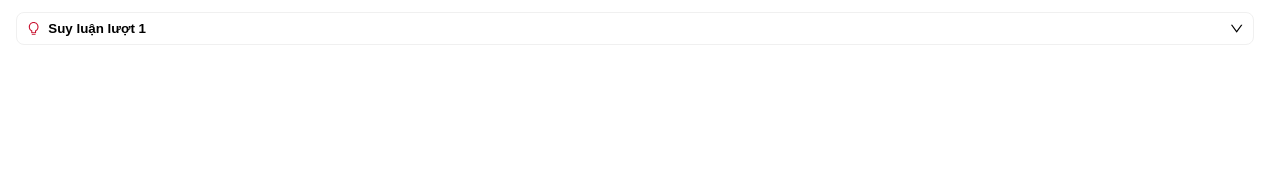
Test case: ReasoningCard › reports missing reasoning after streaming finishes
Click the button "Suy luận lượt 1": (93, 28) [17,13,1253,44]
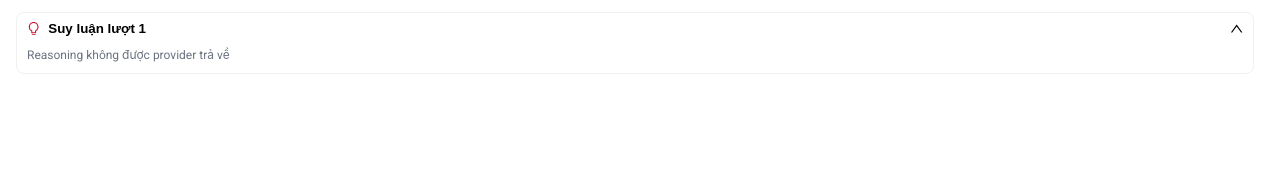
Expected: the text "Reasoning không được provider trả về" is shown, [27,48,230,62]
